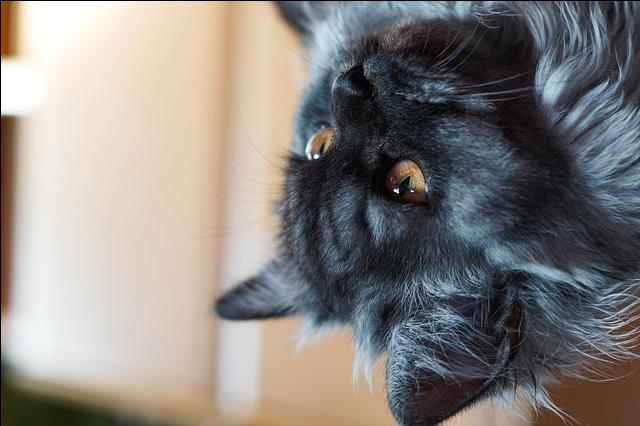cat: (211, 1, 640, 426)
